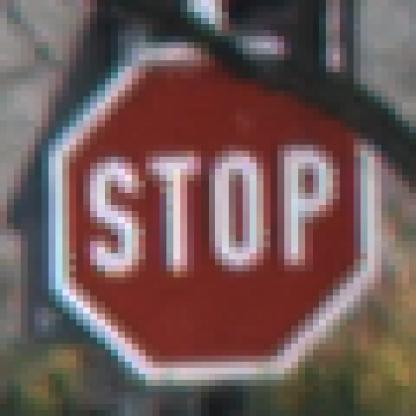stop: (32, 45, 392, 389)
